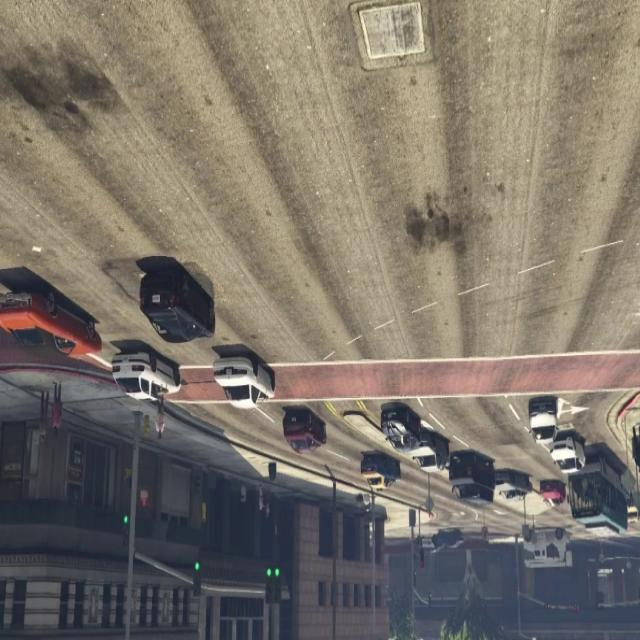Green-Signal: (262, 550, 284, 612), (188, 548, 206, 608), (118, 503, 133, 558)
